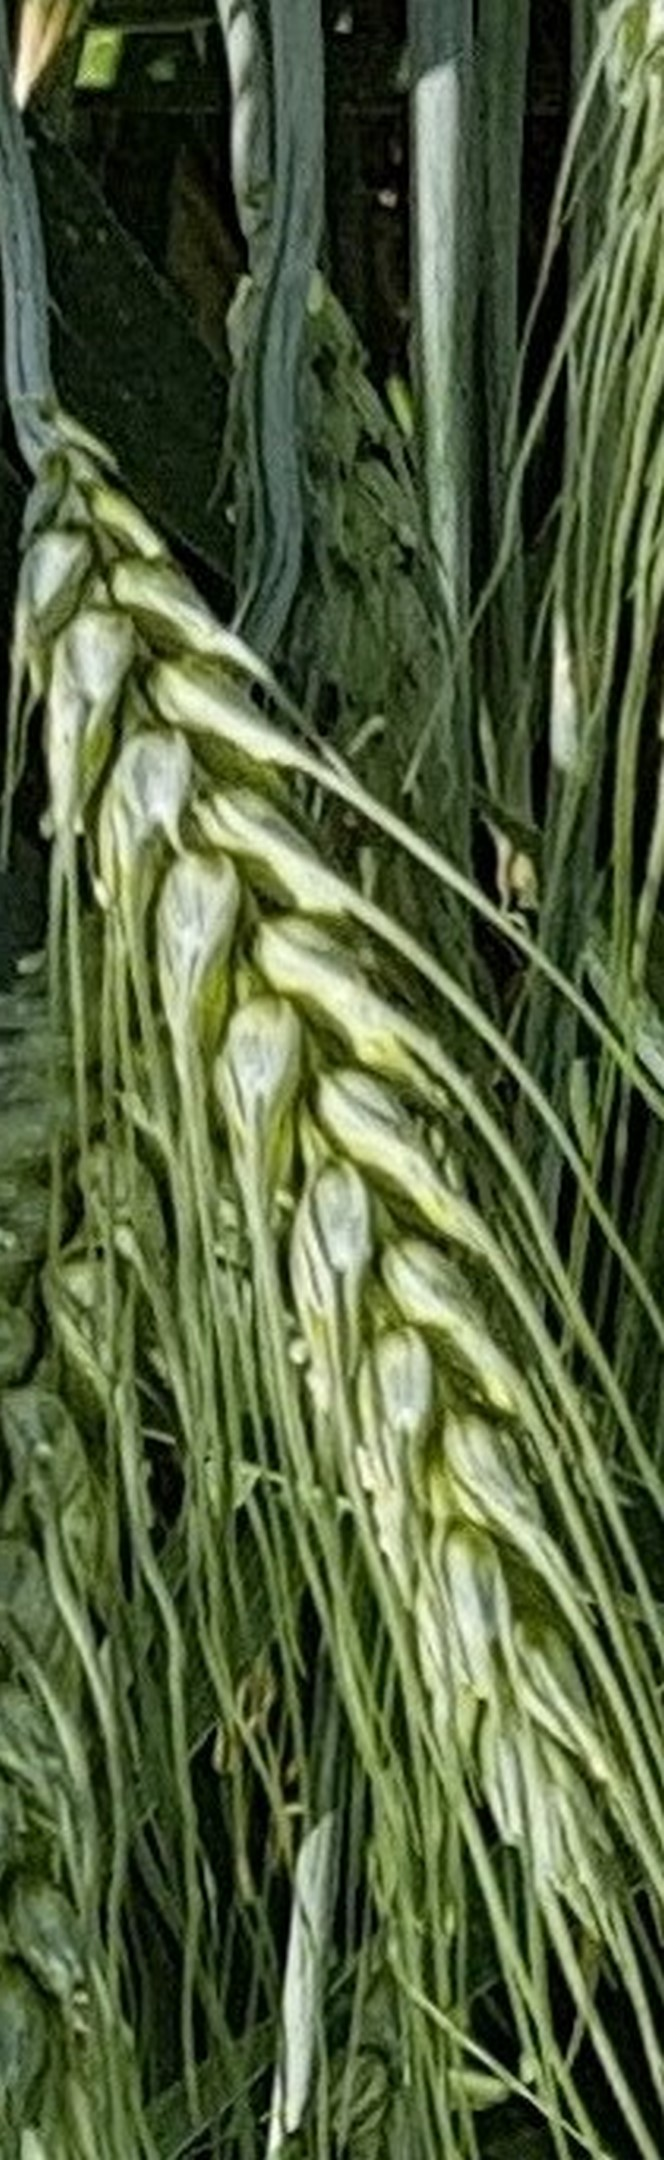Healthy Wheat: (17, 404, 652, 1851)
